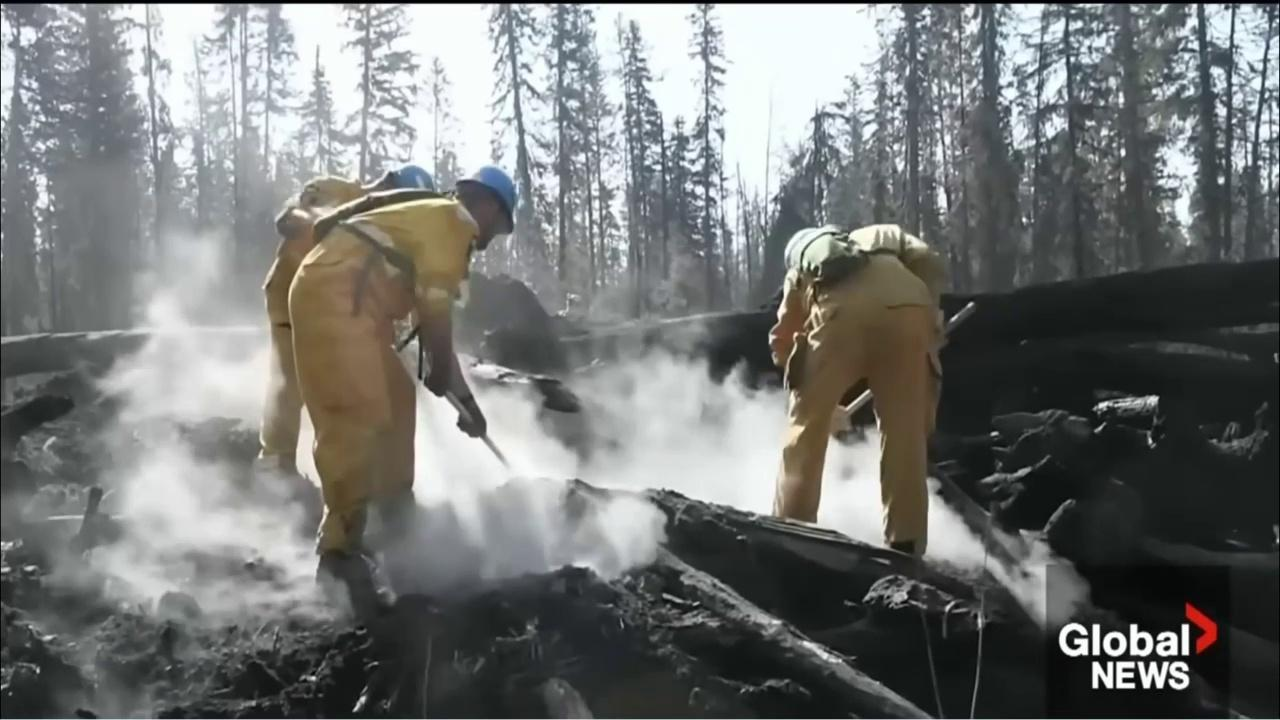smoke: (9, 220, 1075, 720)
